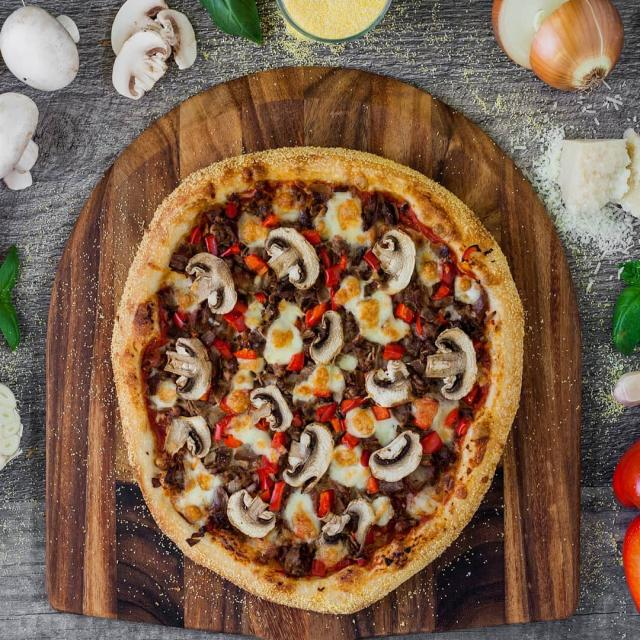mushrooms: (265, 224, 323, 292), (426, 328, 478, 402), (283, 422, 334, 491), (163, 332, 213, 402), (186, 251, 238, 316), (374, 228, 417, 298), (367, 432, 423, 483), (225, 488, 278, 539), (366, 360, 415, 407), (165, 414, 212, 462), (250, 385, 294, 435), (324, 501, 376, 543), (310, 310, 344, 368)
pizza: (112, 147, 524, 612)
